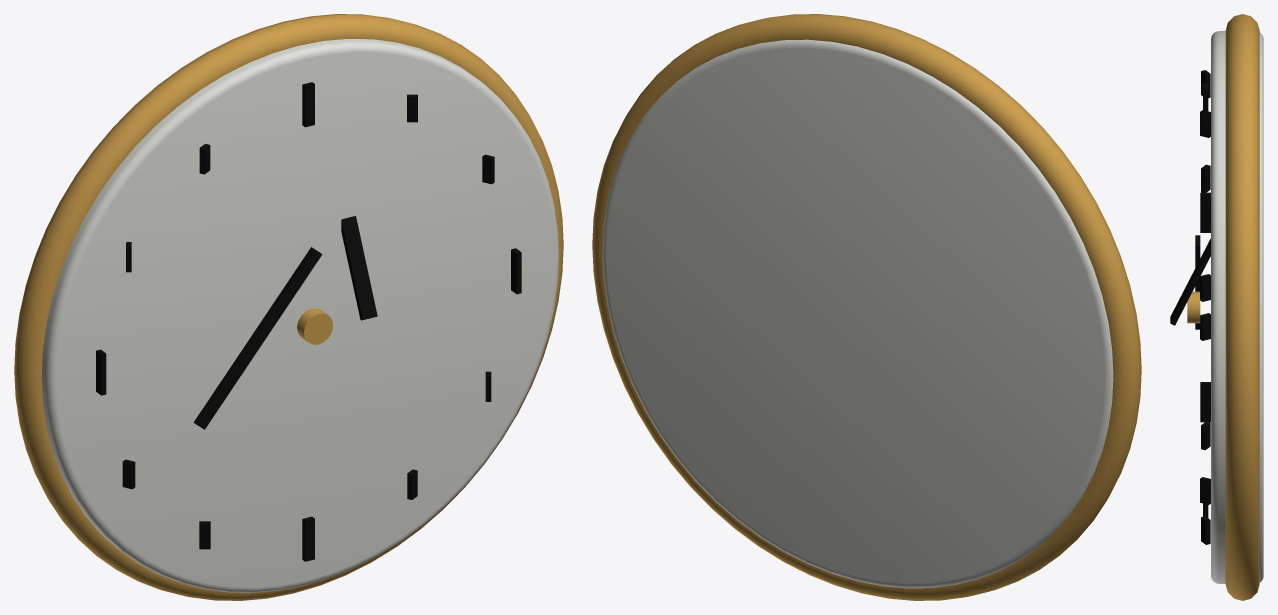
File: modern_wall_clock.obj
3 renders of one model, left to right at view 1: azimuth 30°, elevation 25°; view 2: azimuth 150°, elevation 25°; view 3: azimuth 270°, elevation 25°, orthographic. The views are drawn at different scales.
Visible parts, largest first — view 1: dial, rim, hand_min, hand_hour, pin; view 2: dial, rim; view 3: rim, dial, hand_hour, tick_3, tick_9, pin, tick_2, tick_4, tick_8, tick_1, tick_5, hand_min (+4 smaller).
Part boxes in pixels (box(x1,y1,x2,y2)): dial: box(41, 38, 558, 592); rim: box(14, 14, 563, 600); hand_min: box(193, 247, 322, 429); hand_hour: box(341, 216, 377, 320); pin: box(297, 308, 333, 344); dial: box(602, 39, 1113, 588); rim: box(592, 14, 1141, 600); rim: box(1225, 14, 1259, 600); dial: box(1211, 31, 1263, 583); hand_hour: box(1170, 238, 1210, 325); tick_3: box(1200, 382, 1210, 422); tick_9: box(1200, 192, 1210, 232); pin: box(1187, 291, 1200, 323); tick_2: box(1200, 274, 1210, 301); tick_4: box(1200, 477, 1210, 504); tick_8: box(1200, 313, 1210, 340); tick_1: box(1201, 164, 1210, 193); tick_5: box(1201, 516, 1210, 544); hand_min: box(1195, 235, 1200, 329).
Size of the model in its own units: 0.446 by 0.446 by 0.0709.
